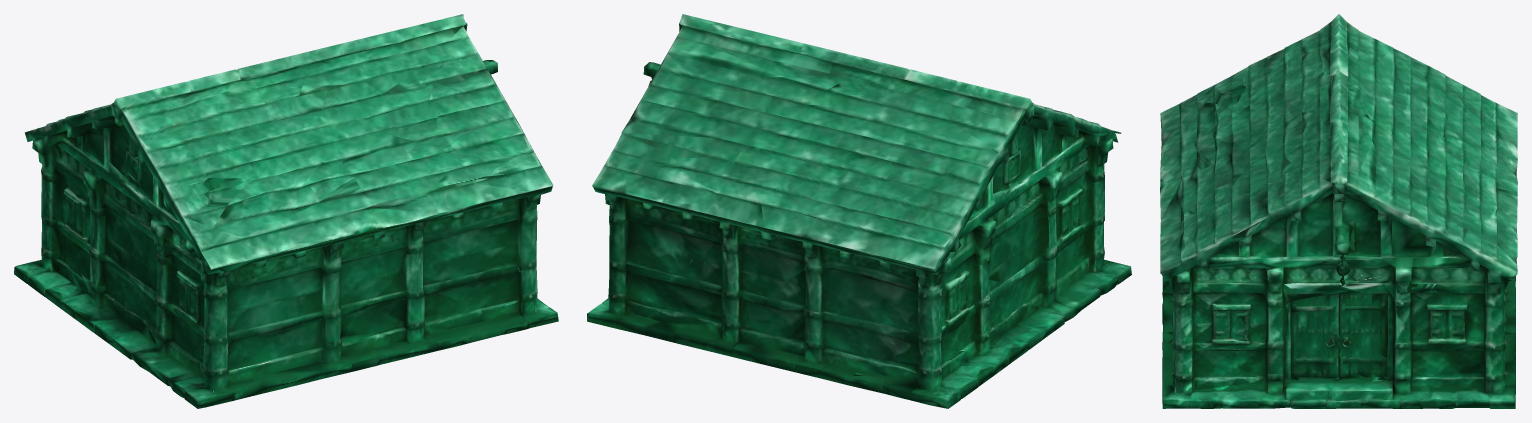
File: storage_green.glb
The picture shows the model from 3 angles, left to right: view 1: azimuth 30°, elevation 25°; view 2: azimuth 150°, elevation 25°; view 3: azimuth 270°, elevation 25°; orthographic projection. The views are drawn at different scales.
Visible parts, largest first — view 1: tripo_node_cc8b3b21-f5d6-4cf8-8ce5-1356a6e98571; view 2: tripo_node_cc8b3b21-f5d6-4cf8-8ce5-1356a6e98571; view 3: tripo_node_cc8b3b21-f5d6-4cf8-8ce5-1356a6e98571.
Part boxes in pixels (x1,y1,x2,y2): tripo_node_cc8b3b21-f5d6-4cf8-8ce5-1356a6e98571: [14, 14, 558, 408]; tripo_node_cc8b3b21-f5d6-4cf8-8ce5-1356a6e98571: [587, 14, 1131, 408]; tripo_node_cc8b3b21-f5d6-4cf8-8ce5-1356a6e98571: [1160, 14, 1517, 408].
Bounding box in the file's own units: 0.9814 × 0.5763 × 0.8089.
Materials: 1 (1 with a texture image).
